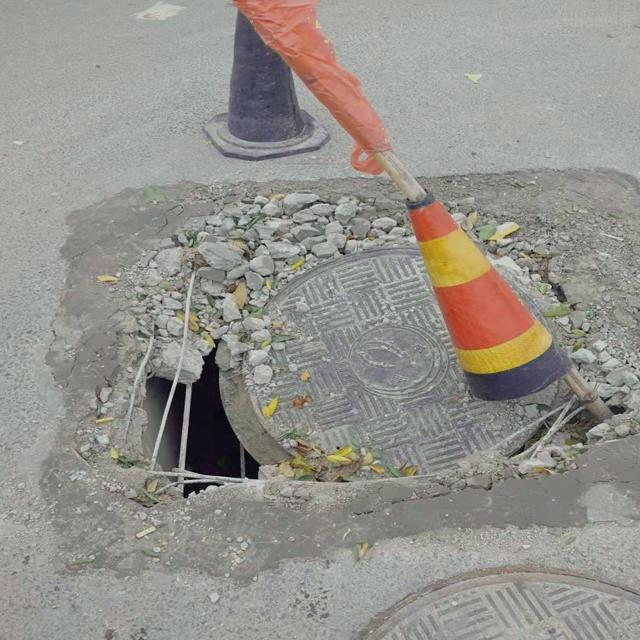circle: (136, 240, 600, 484)
